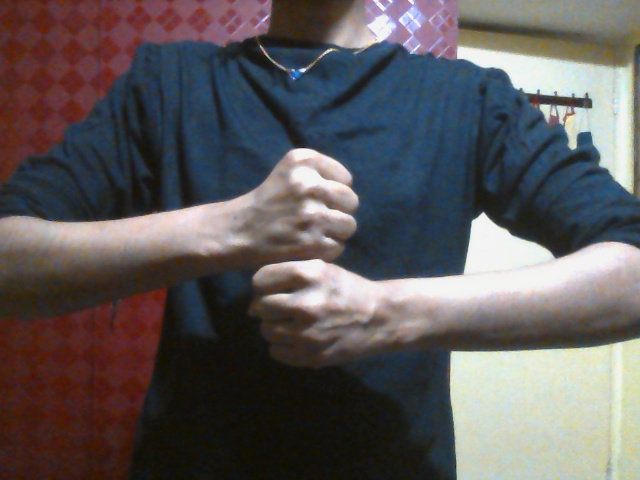G: (243, 147, 379, 372)
